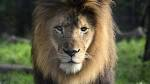lion: (32, 5, 117, 84)
